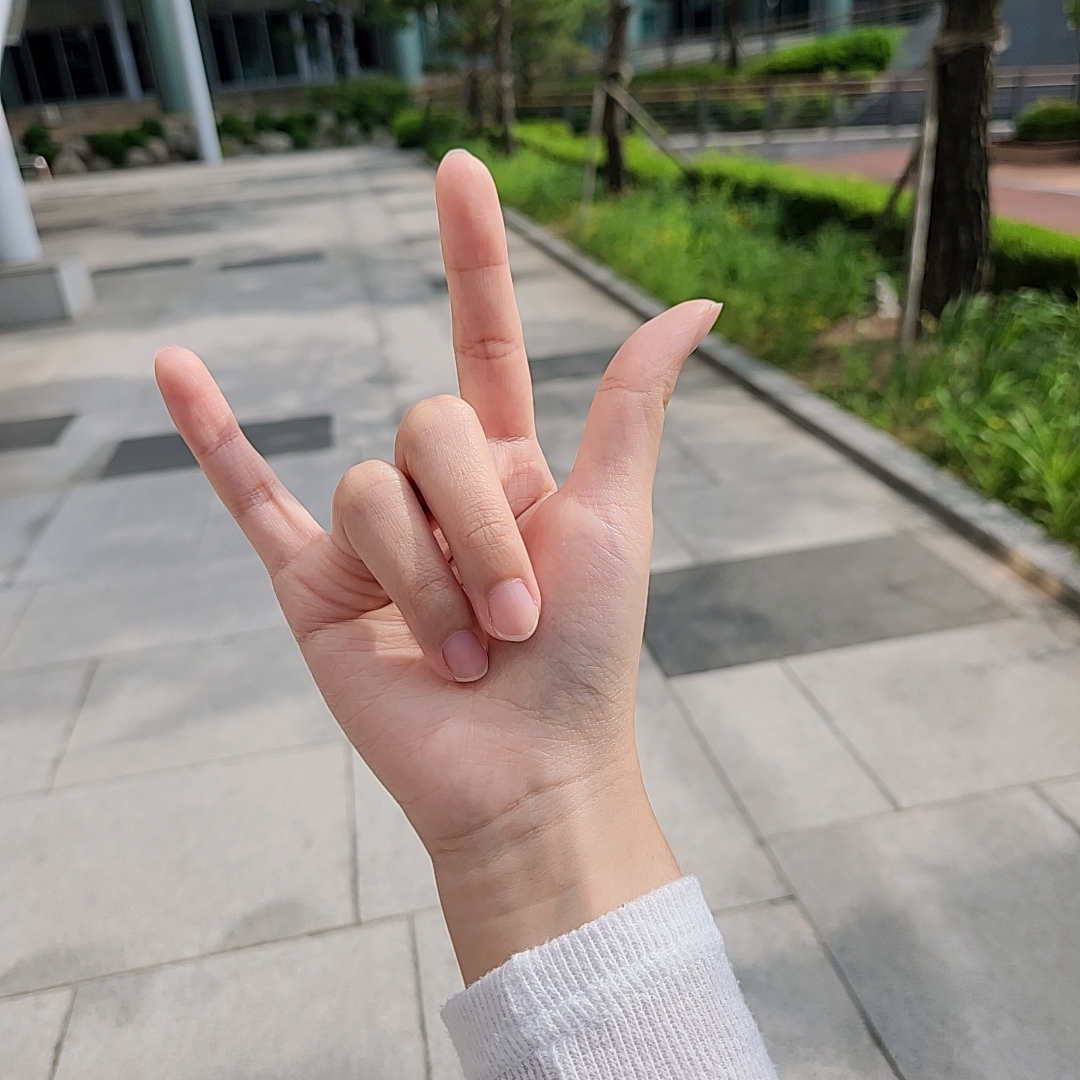iloveyou: (151, 147, 725, 834)
